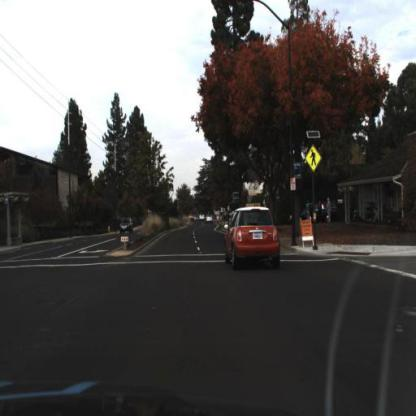car: (224, 204, 280, 265), (289, 197, 341, 224), (118, 214, 137, 237), (117, 215, 136, 236)
pedestrian: (326, 196, 334, 223), (318, 198, 325, 223), (327, 197, 332, 224), (318, 200, 324, 221)
